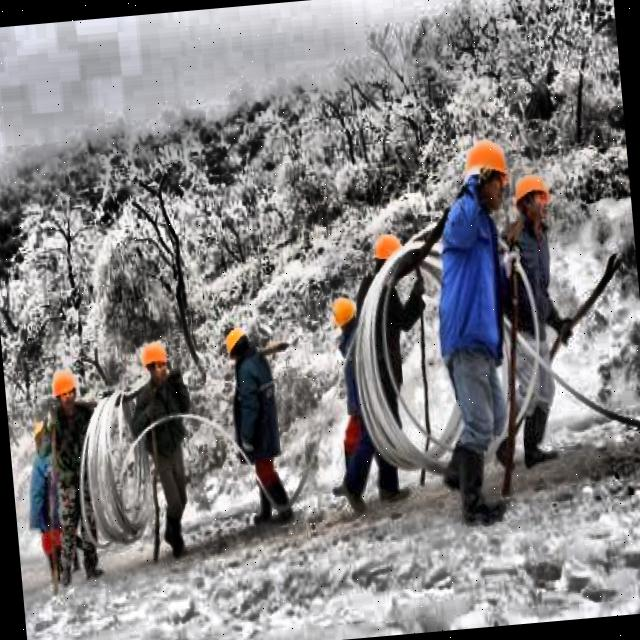helmet: (460, 134, 512, 208), (510, 169, 554, 230), (369, 226, 411, 288), (138, 341, 170, 388), (329, 292, 360, 338), (223, 326, 254, 369), (52, 362, 78, 412)
